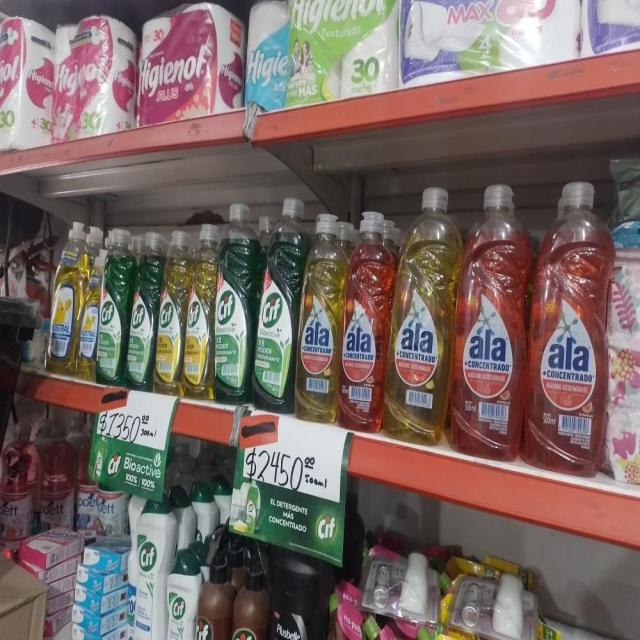ala_conc_amarillo: (390, 182, 452, 444), (298, 208, 340, 424)
ala_conc_rojo: (528, 180, 604, 475), (454, 182, 526, 461), (341, 209, 388, 437)
cif_conc_bot_amarilla: (185, 220, 213, 400), (156, 228, 184, 395)
cif_conc_botella_verde: (254, 196, 296, 412), (215, 200, 252, 404), (127, 228, 156, 391), (98, 225, 126, 386)
magistral_con_amarillo: (50, 220, 80, 376), (80, 220, 98, 382)
